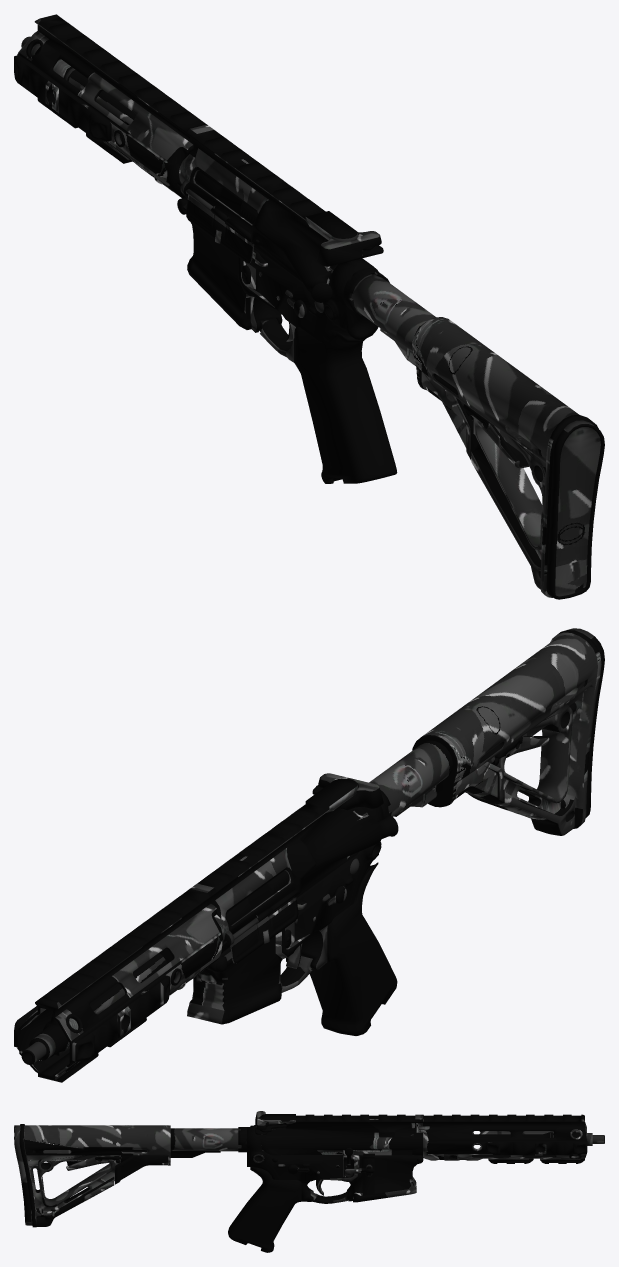
File: R4C-Elephant.glb
3 renders of one model, top to bottom at view 1: azimuth 30°, elevation 25°; view 2: azimuth 150°, elevation 25°; view 3: azimuth 270°, elevation 25°, orthographic. The views are drawn at different scales.
Visible parts, largest first — view 1: R4C Elephant; view 2: R4C Elephant; view 3: R4C Elephant.
Part boxes in pixels (x1,y1,x2,y2): R4C Elephant: (14, 14, 604, 599); R4C Elephant: (14, 628, 604, 1082); R4C Elephant: (14, 1111, 604, 1252).
Size of the model in its own units: 0.0476 by 0.1397 by 0.5675.
1 material, 1 textured.
